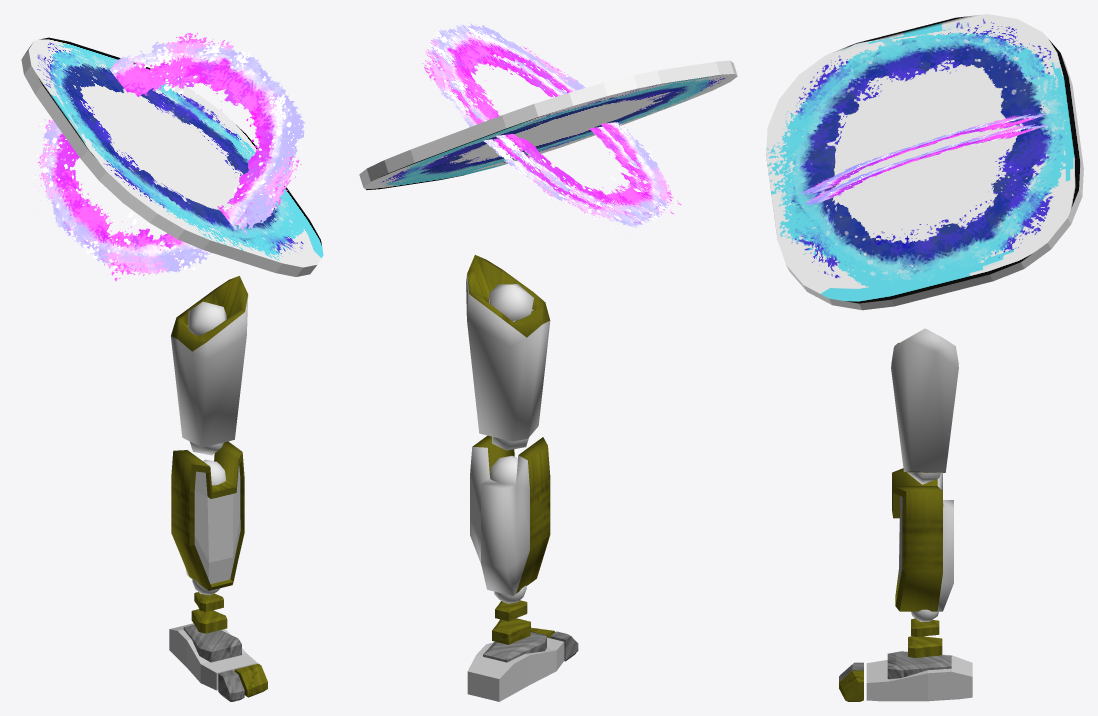
Rendered from Robot 10 L leg.fbx.
3 views of the same model, side by side, from view 1: azimuth 30°, elevation 25°; view 2: azimuth 150°, elevation 25°; view 3: azimuth 270°, elevation 25° (orthographic). The views are drawn at different scales.
Visible parts, largest first — view 1: galaxy blue, galaxy purple, Icosphere.001, Icosphere.012, Cube.027, Cube.029, Cube.025, Cube.028; view 2: galaxy purple, galaxy blue, Icosphere.001, Icosphere.012, Cube.027, Cube.025; view 3: galaxy blue, Icosphere.001, Icosphere.012, Cube.027, galaxy purple, Cube.025, Cube.029.
Part boxes in pixels (x1,y1,x2,y2): galaxy blue: (21, 37, 323, 276); galaxy purple: (34, 32, 310, 281); Icosphere.001: (171, 276, 248, 455); Icosphere.012: (171, 441, 244, 595); Cube.027: (169, 623, 257, 690); Cube.029: (234, 663, 267, 697); Cube.025: (191, 609, 227, 633); Cube.028: (218, 670, 244, 701); galaxy purple: (422, 23, 681, 227); galaxy blue: (359, 60, 737, 189); Icosphere.001: (466, 255, 550, 450); Icosphere.012: (470, 435, 550, 603); Cube.027: (467, 632, 564, 701); Cube.025: (492, 618, 530, 644); galaxy blue: (766, 14, 1083, 310); Icosphere.001: (891, 328, 958, 484); Icosphere.012: (892, 468, 953, 621); Cube.027: (866, 651, 972, 701); galaxy purple: (801, 113, 1049, 205); Cube.025: (908, 636, 942, 657); Cube.029: (839, 670, 863, 701).
Bounding box in the file's own units: 716 × 1694 × 799.
